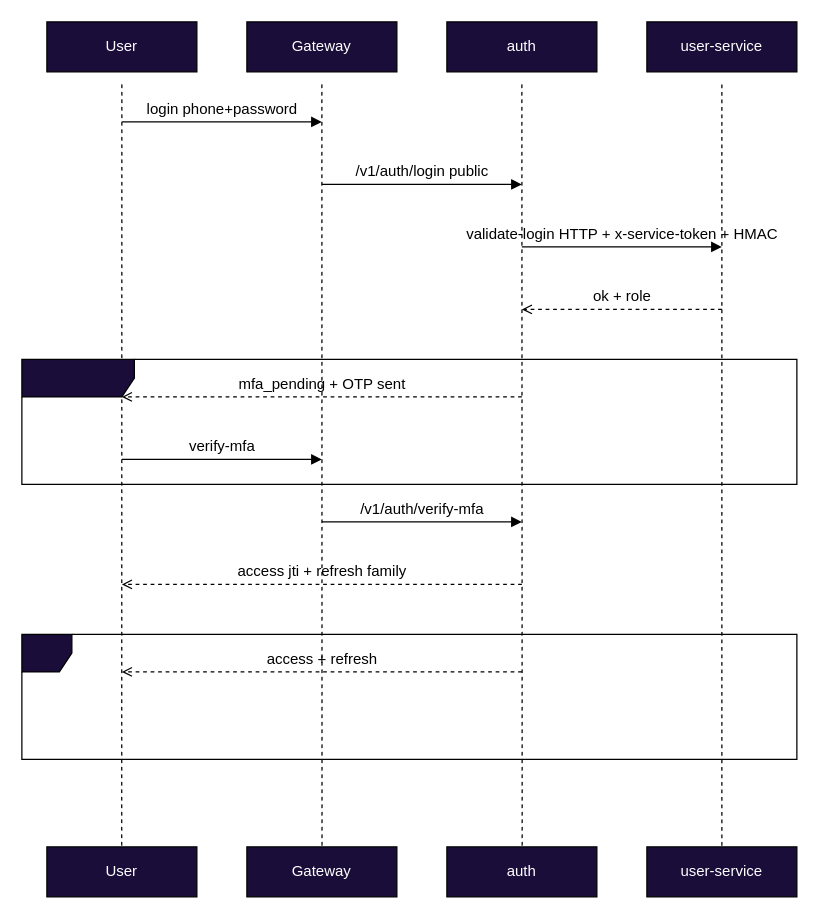
Some shapes in this 819 by 919 pixel diagram are drawn without their labels. Each missing label, with the centre of its shape:
else: (409,696)
privileged role: (409,421)
